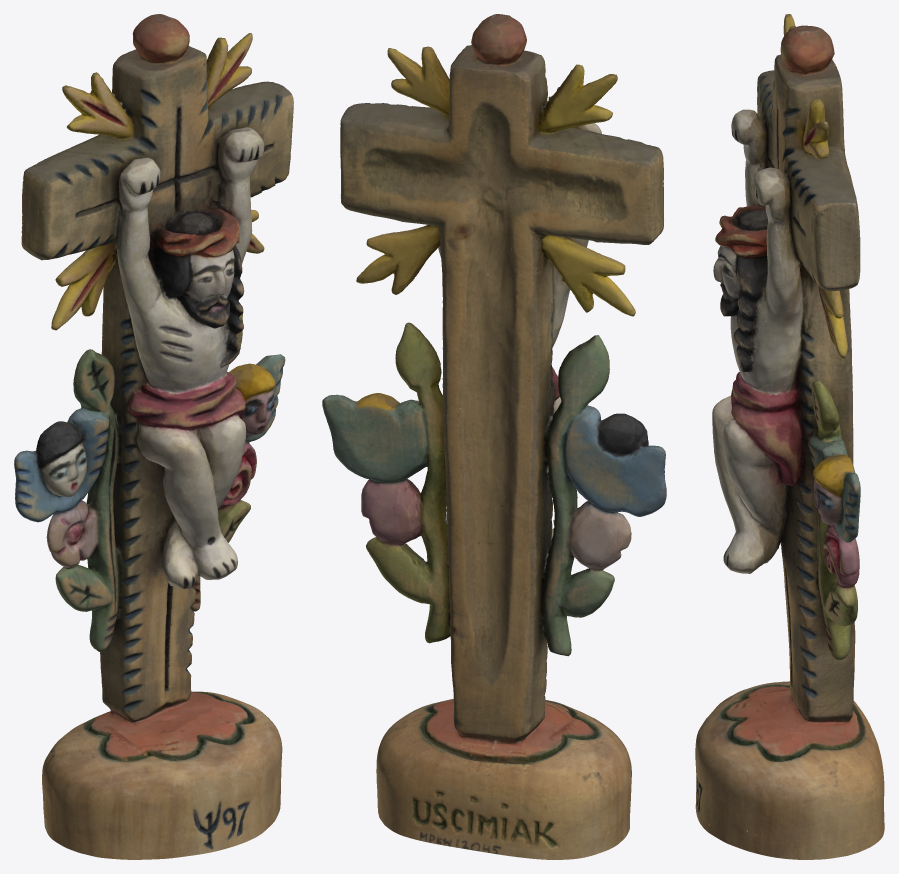
Rendered from MPLW_E_1211_lowpoly.glb.
3 renders of one model, left to right at view 1: azimuth 30°, elevation 25°; view 2: azimuth 150°, elevation 25°; view 3: azimuth 270°, elevation 25°, orthographic. The views are drawn at different scales.
Visible parts, largest first — view 1: MPLW_E_1211_lowpoly; view 2: MPLW_E_1211_lowpoly; view 3: MPLW_E_1211_lowpoly.
Boxes of the visible parts, box(x1,y1,x2,y2) form: MPLW_E_1211_lowpoly: box(14, 14, 293, 859); MPLW_E_1211_lowpoly: box(322, 14, 666, 859); MPLW_E_1211_lowpoly: box(695, 14, 884, 859).
Size of the model in its own units: 0.1151 by 0.2861 by 0.0629.
1 material, 1 textured.
